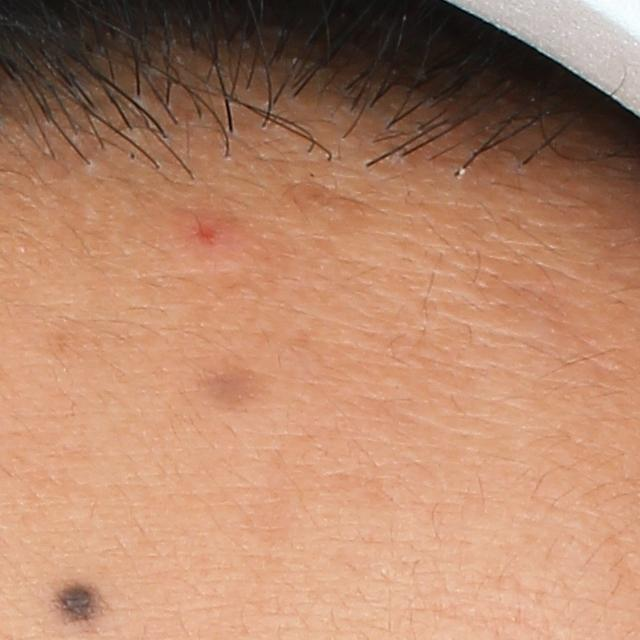nevus: (52, 580, 113, 628)
